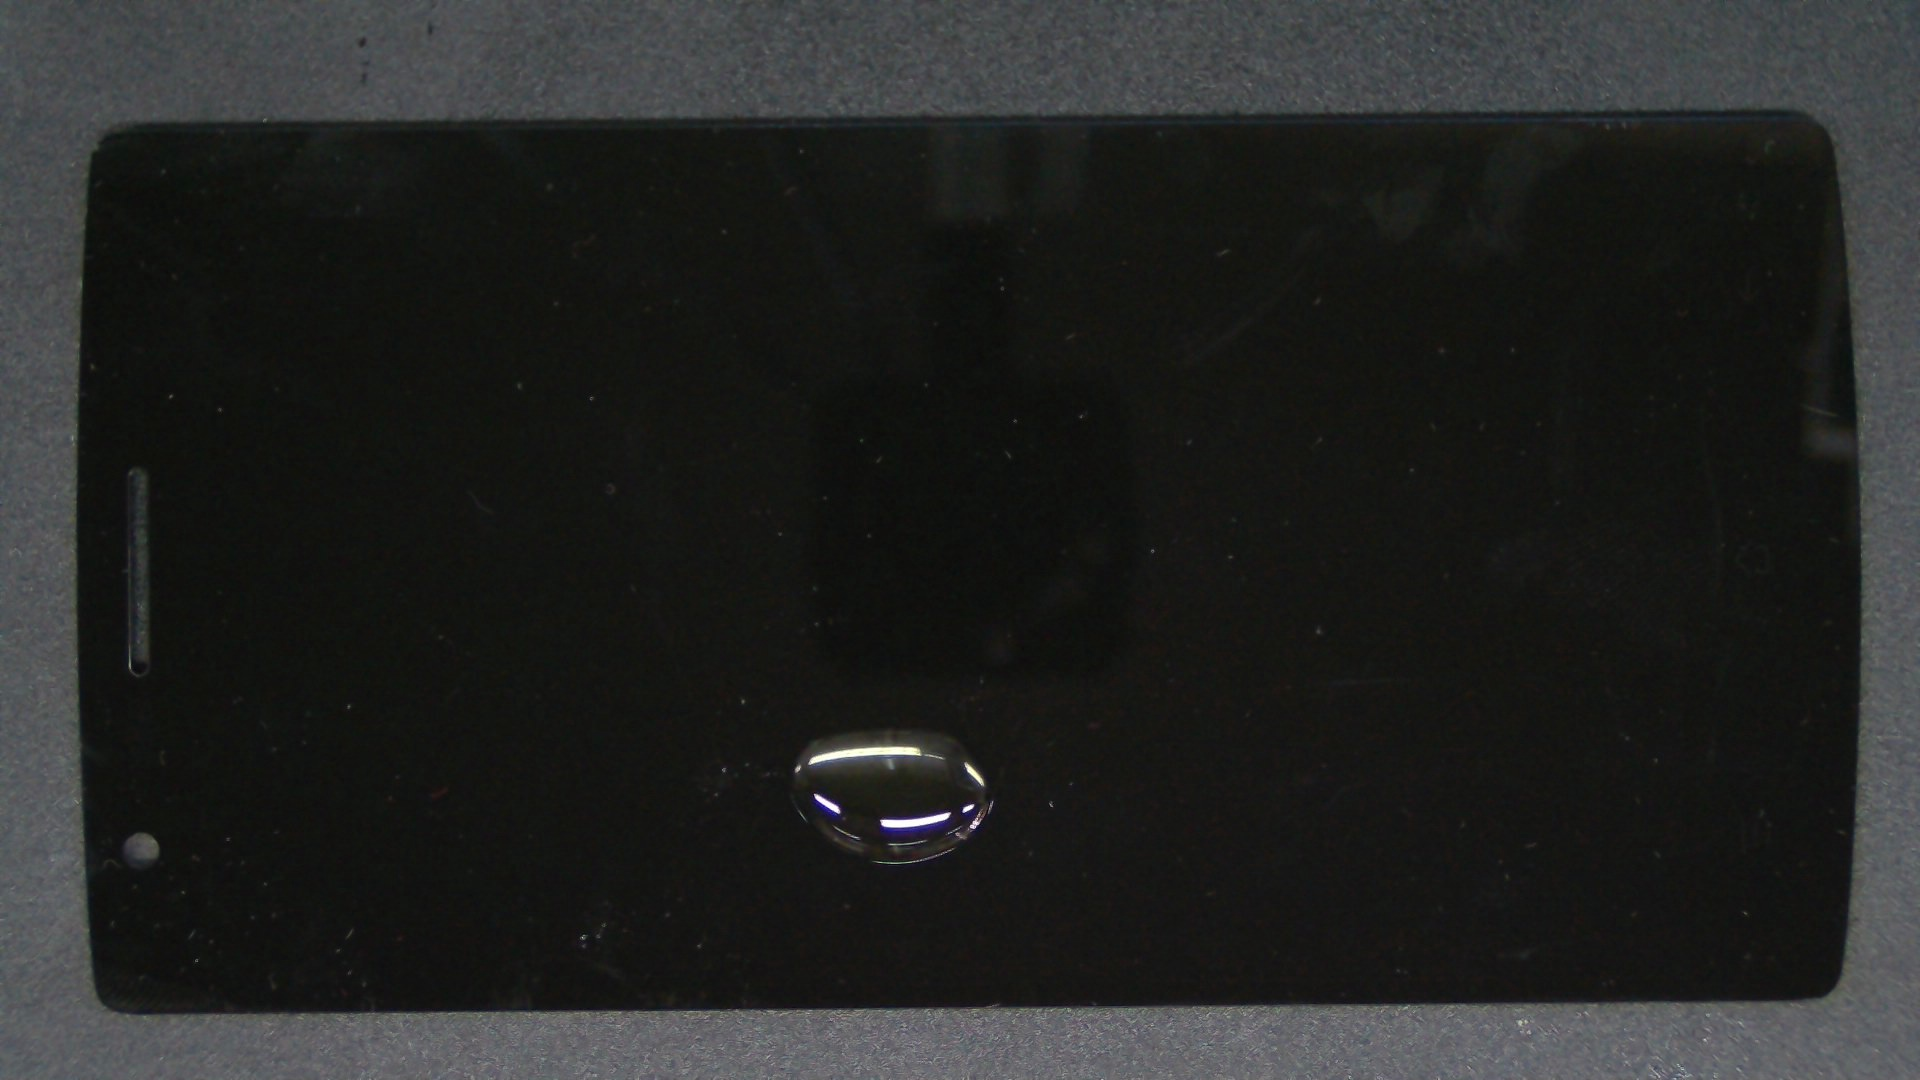oil: (448, 364, 1344, 1080)
